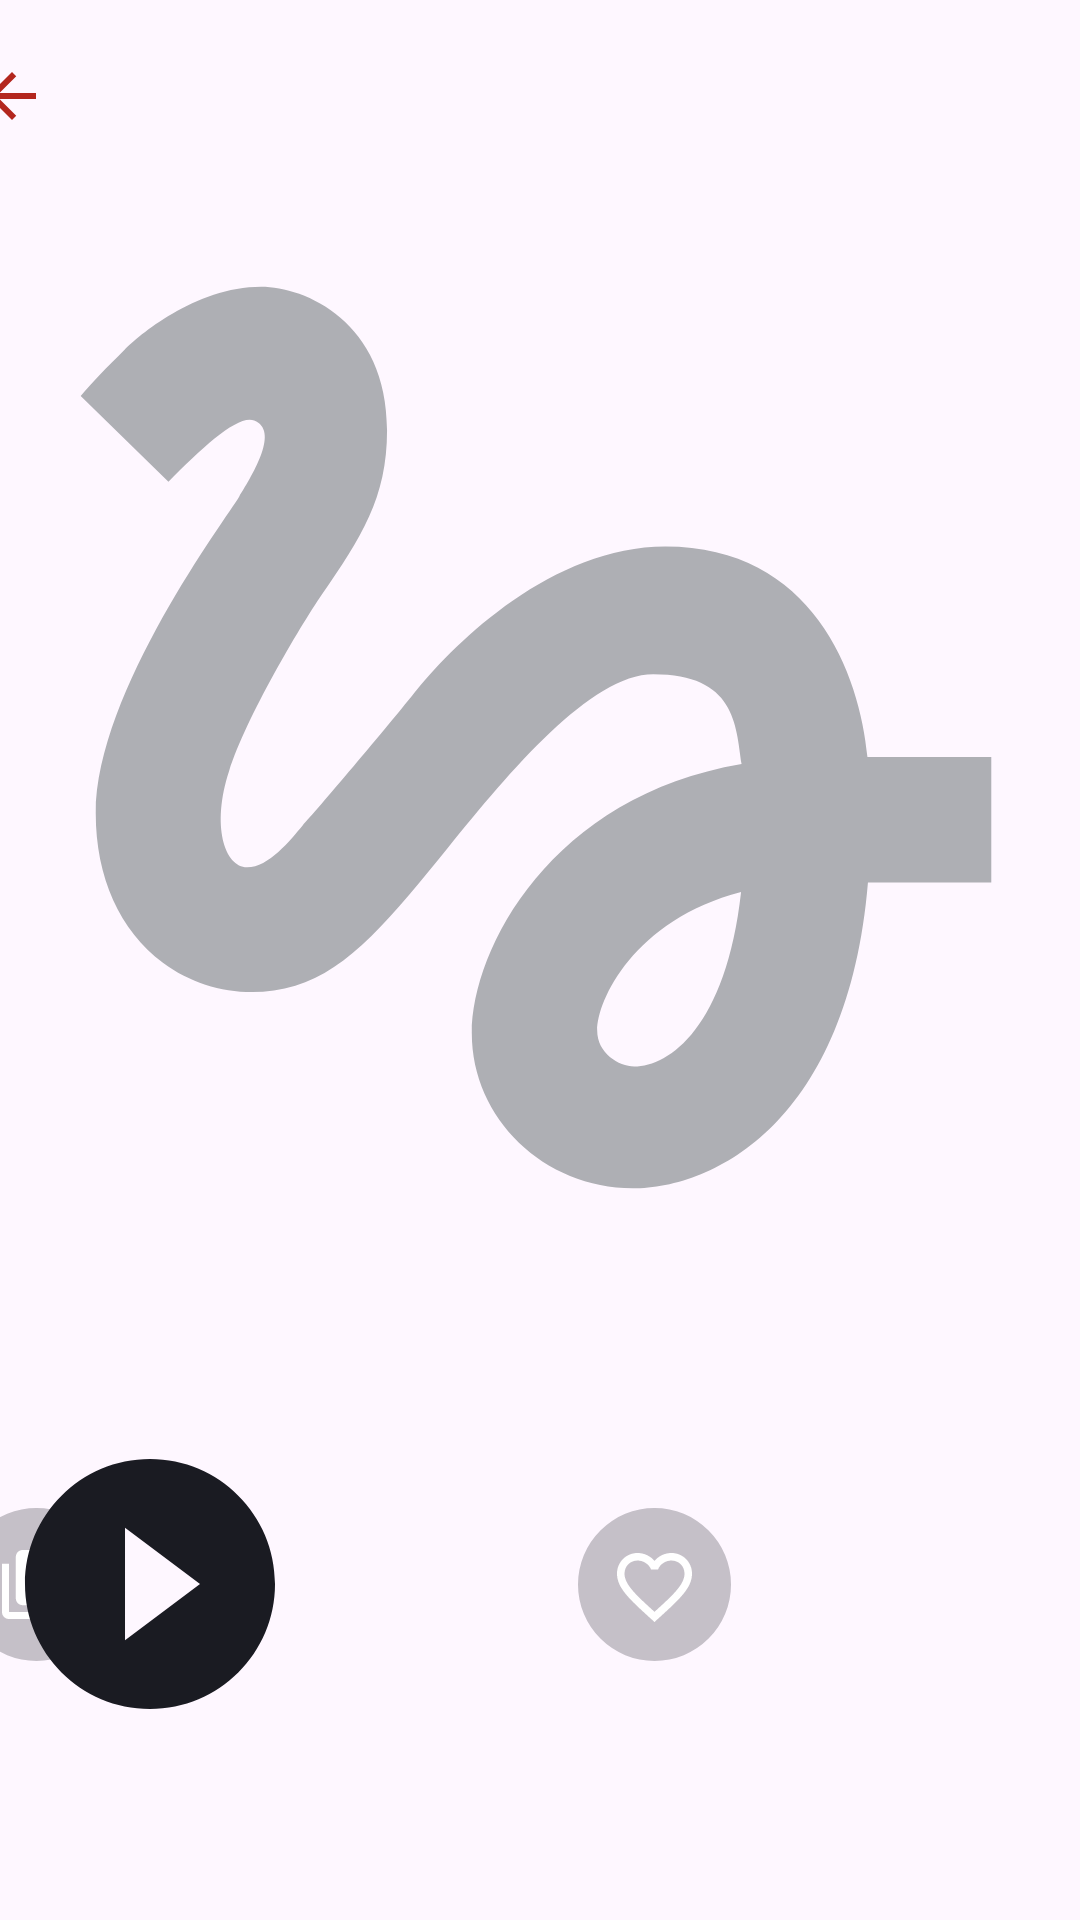

Where to tap for icons on this 1080*1920 app screen, as point (x, y):
like: point (654, 1584)
play audioplayer: point (137, 1584)
